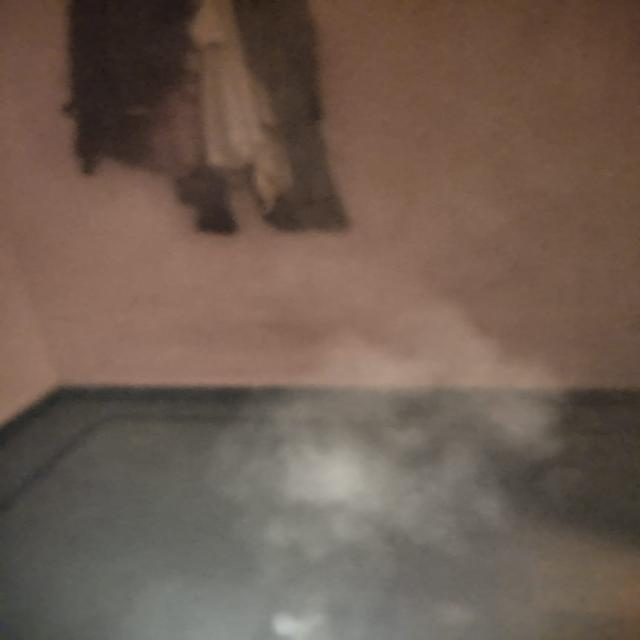smoke: (257, 324, 470, 529)
